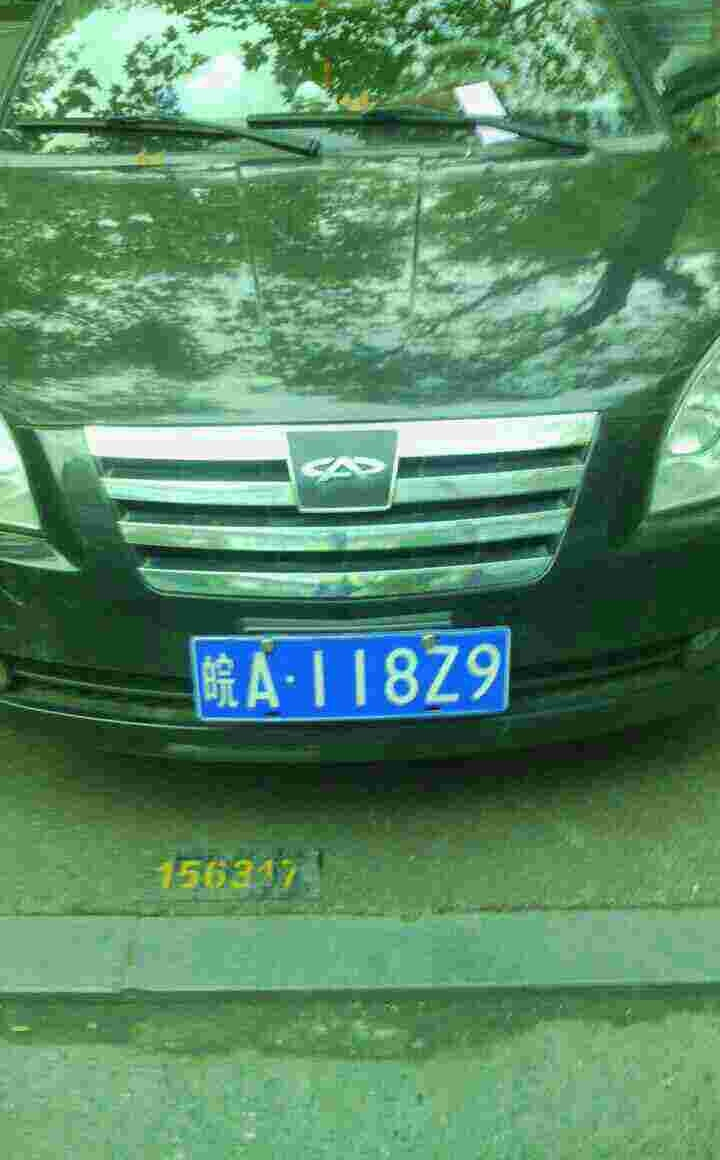license_plate: (183, 636, 500, 725)
